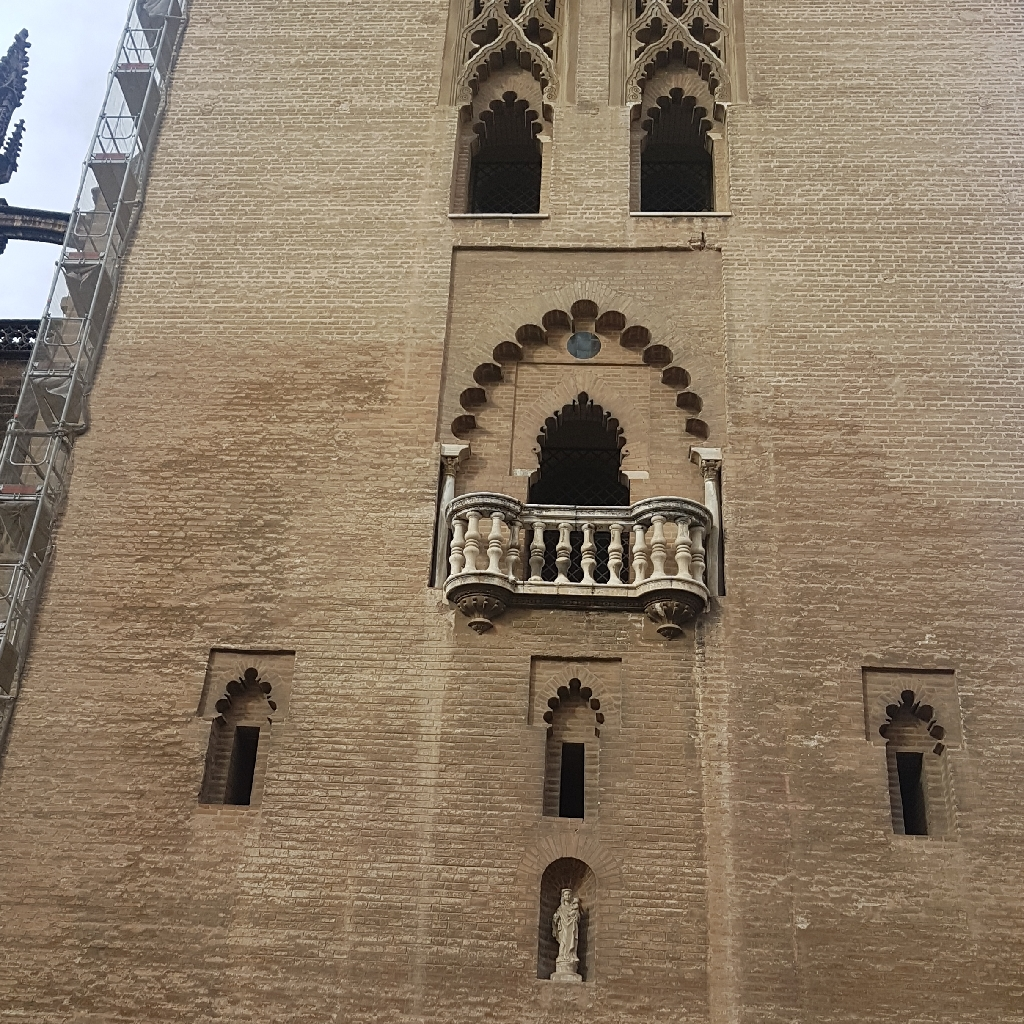arco-lobulado: (447, 292, 715, 468), (874, 681, 957, 755), (635, 81, 721, 147), (466, 82, 550, 149), (204, 660, 282, 731), (539, 674, 611, 741)
